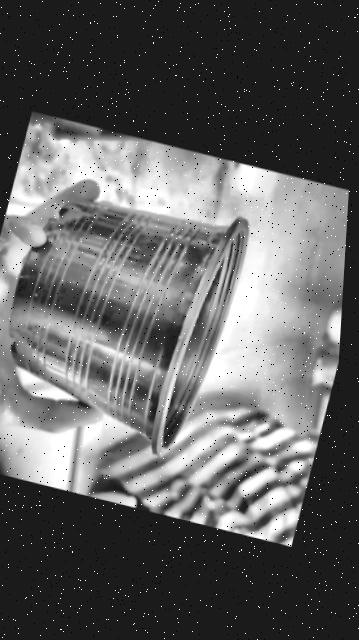pot: (8, 201, 247, 456)
